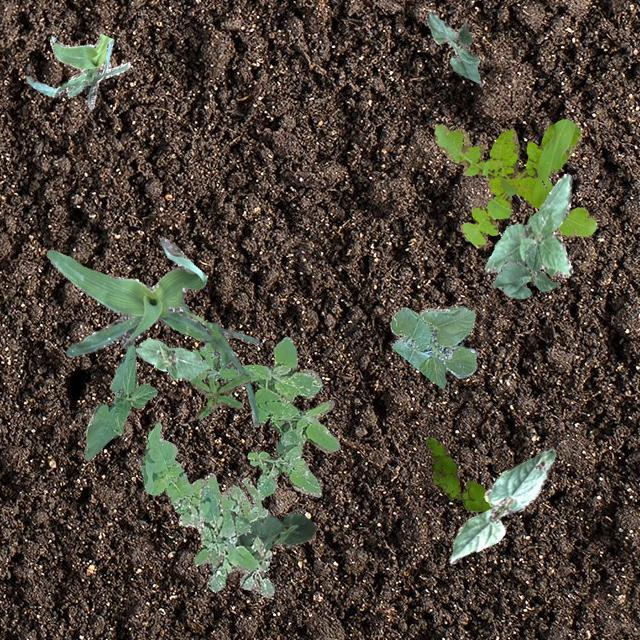crop: (45, 236, 212, 356), (156, 300, 258, 426), (448, 447, 556, 562), (483, 172, 572, 276), (82, 342, 156, 459), (26, 32, 128, 108), (389, 304, 476, 388), (425, 12, 479, 82), (492, 244, 558, 298), (134, 338, 208, 380), (234, 512, 314, 548)
weed: (434, 118, 596, 246), (242, 336, 340, 500), (138, 422, 268, 522), (178, 484, 274, 596), (424, 436, 490, 511), (188, 372, 250, 418), (189, 342, 253, 382)
